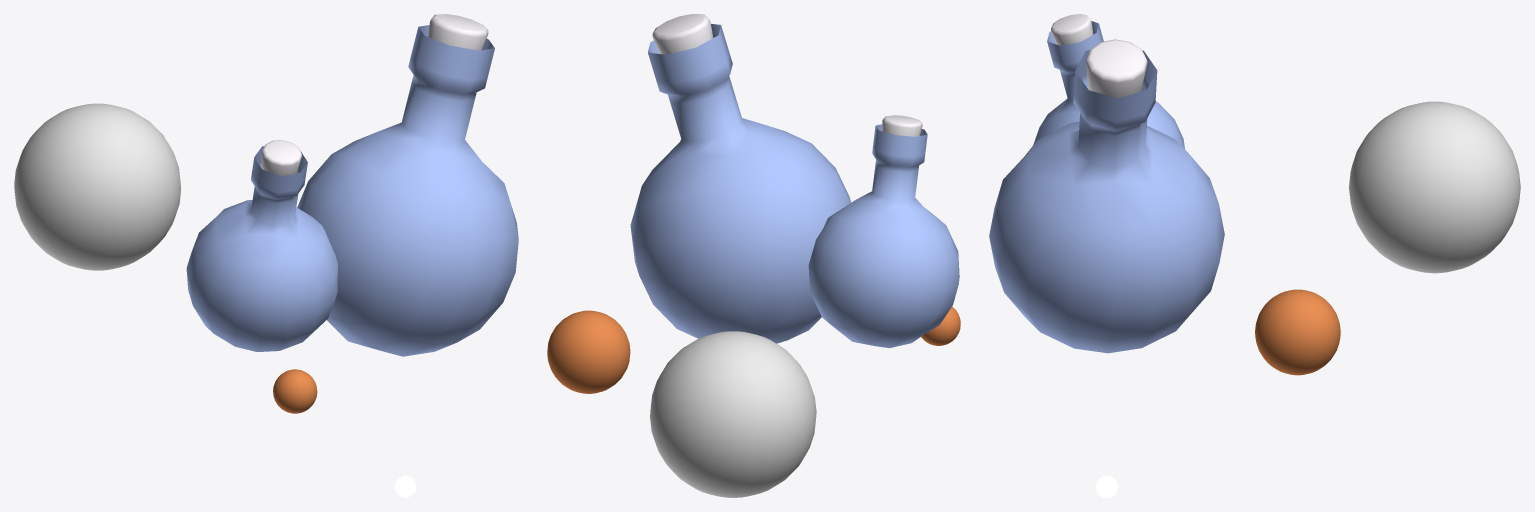
Rendered from space-potion.gltf.
3 renders of one model, left to right at view 1: azimuth 30°, elevation 25°; view 2: azimuth 150°, elevation 25°; view 3: azimuth 270°, elevation 25°, orthographic. The views are drawn at different scales.
Parts seen in each view (by area): view 1: Glass, Sphere, Glass.001, Cork, Sphere.002, Cork.001; view 2: Glass, Sphere, Glass.001, Sphere.001, Cork, Sphere.002, Cork.001; view 3: Glass, Sphere, Sphere.001, Glass.001, Cork, Cork.001.
Boxes of the visible parts, <box> form: Glass: <box>297,25,518,356</box>; Sphere: <box>14,103,180,270</box>; Glass.001: <box>186,146,337,351</box>; Cork: <box>428,14,488,50</box>; Sphere.002: <box>273,369,317,413</box>; Cork.001: <box>261,140,301,175</box>; Glass: <box>630,24,851,343</box>; Sphere: <box>650,331,816,497</box>; Glass.001: <box>808,124,959,348</box>; Sphere.001: <box>547,310,630,393</box>; Cork: <box>652,14,713,54</box>; Sphere.002: <box>921,306,960,345</box>; Cork.001: <box>882,115,922,136</box>; Glass: <box>989,50,1224,353</box>; Sphere: <box>1349,101,1520,273</box>; Sphere.001: <box>1255,289,1340,375</box>; Glass.001: <box>1033,21,1184,148</box>; Cork: <box>1086,39,1147,97</box>; Cork.001: <box>1051,14,1093,45</box>.
Size of what is drawn, in the model's own units: 3.21 by 4.45 by 4.5.
